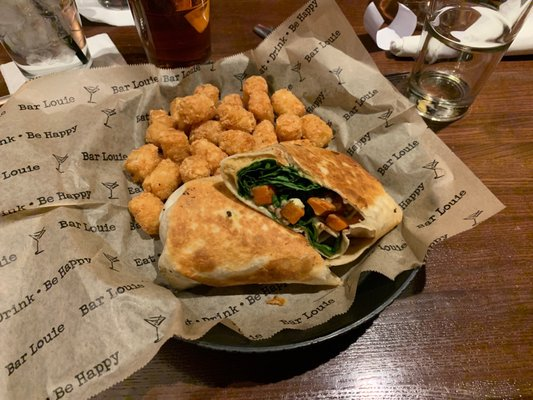pizza: (408, 0, 532, 125), (0, 0, 90, 76), (127, 0, 214, 68), (363, 0, 437, 60)
soup: (156, 137, 404, 290), (204, 139, 403, 273), (155, 178, 343, 292)
